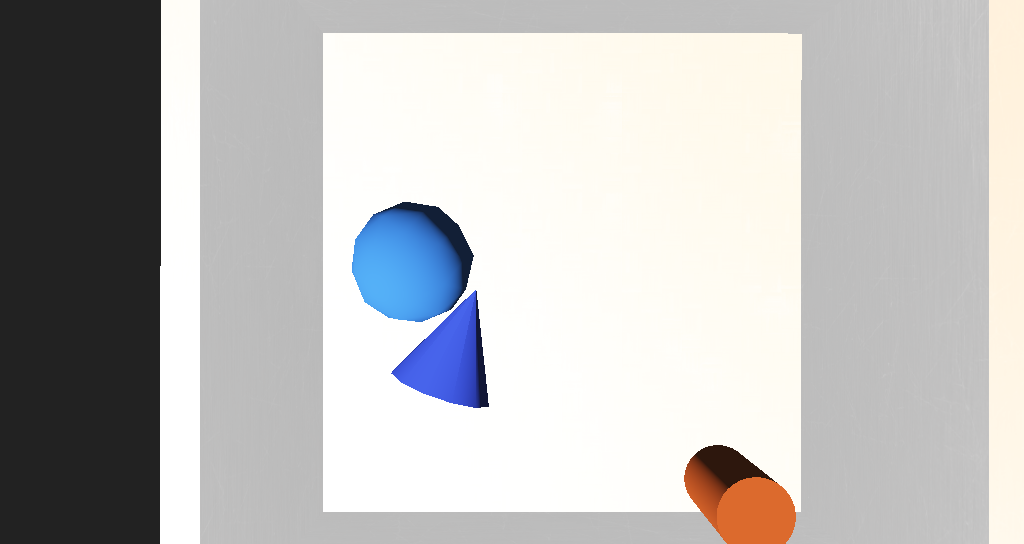cone: (583, 346, 643, 389)
cylinder: (391, 270, 485, 332)
sphere: (377, 239, 445, 286)
